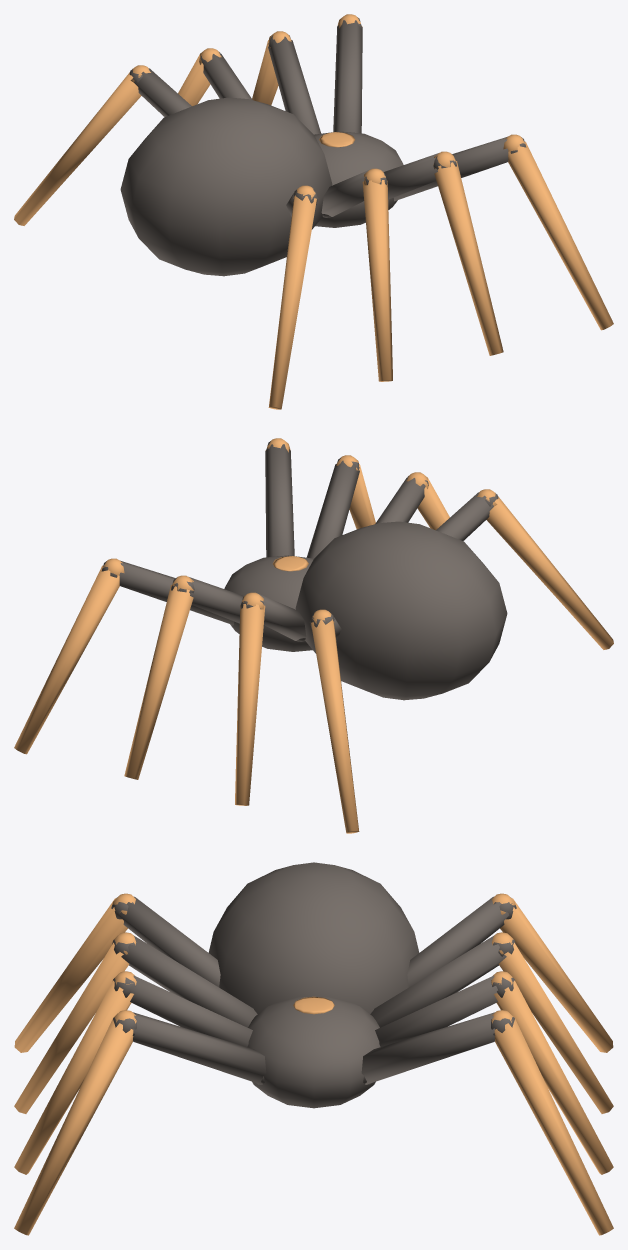
File: redknee-tarantula.glb
3 views of the same model, one above another, from view 1: azimuth 30°, elevation 25°; view 2: azimuth 150°, elevation 25°; view 3: azimuth 270°, elevation 25° (orthographic). The views are drawn at different scales.
Visible parts, largest first — view 1: e; view 2: e; view 3: e.
Part boxes in pixels (x1,y1,x2,y2): e: (14,14,613,409); e: (14,438,613,833); e: (14,862,613,1235).
Size of the model in its own units: 0.4468 by 0.2315 by 0.5742.
